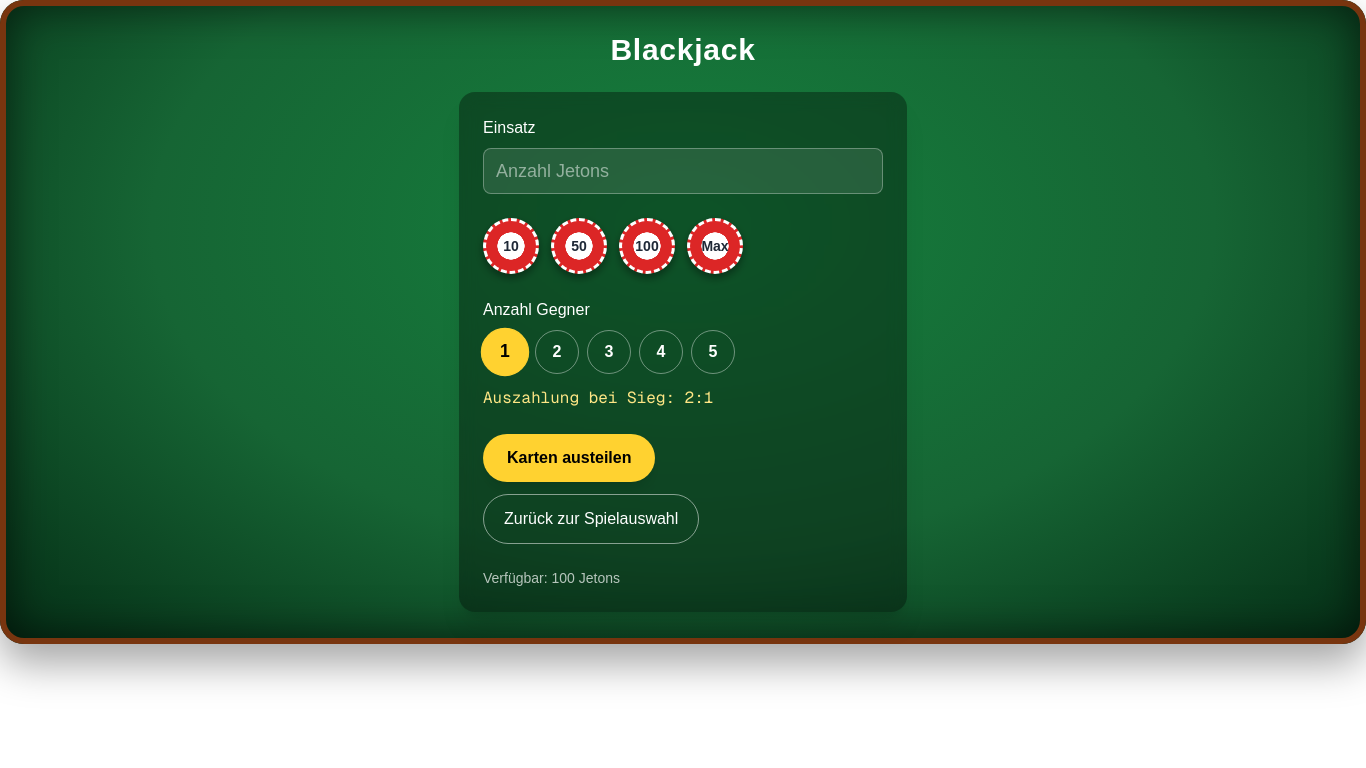
Test case: BlackjackGame: Einsatz und Gegnerzahl › zeigt den hoeheren Auszahlungsfaktor bei mehr Gegnern
Click the radio button named "4 Gegner": (661, 352) [639,330,683,374]
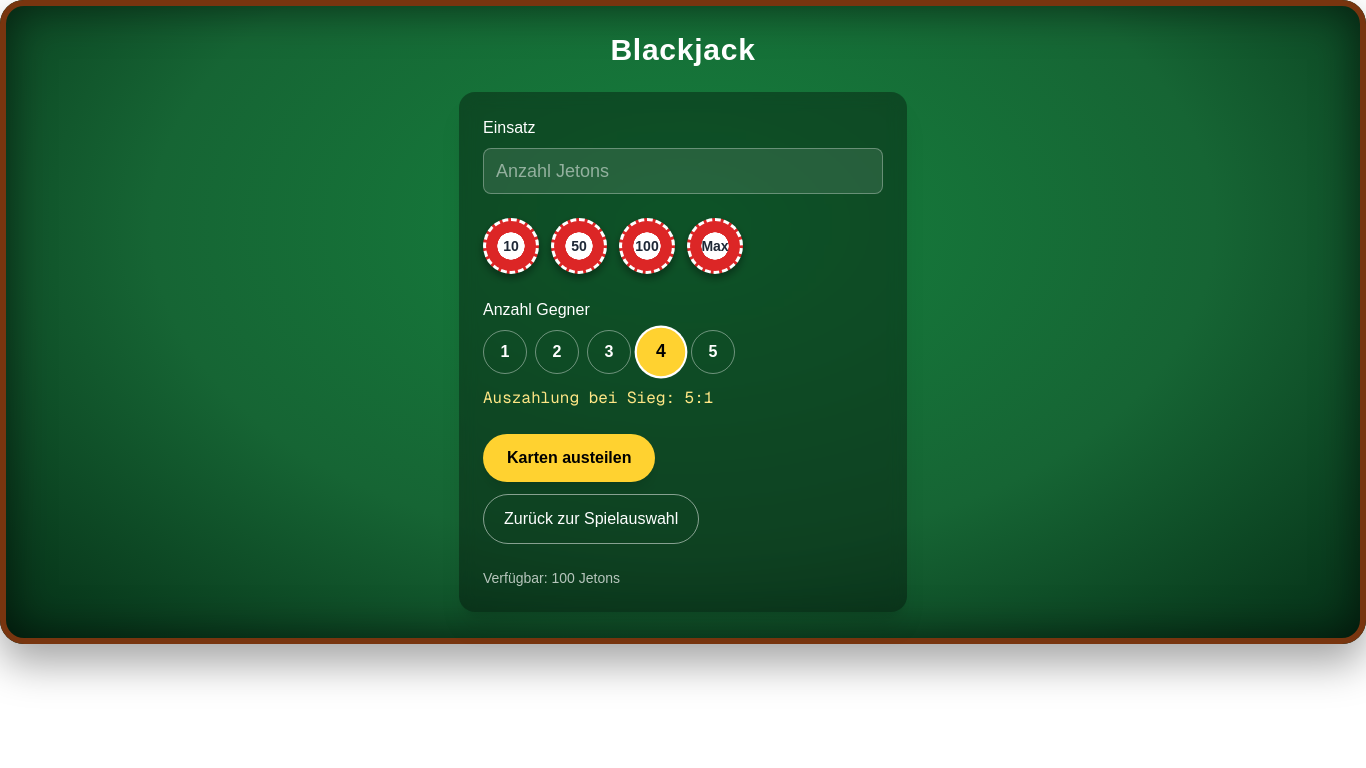
Expected: the text "Auszahlung bei Sieg: 5:1" is shown, [483,387,713,408]
